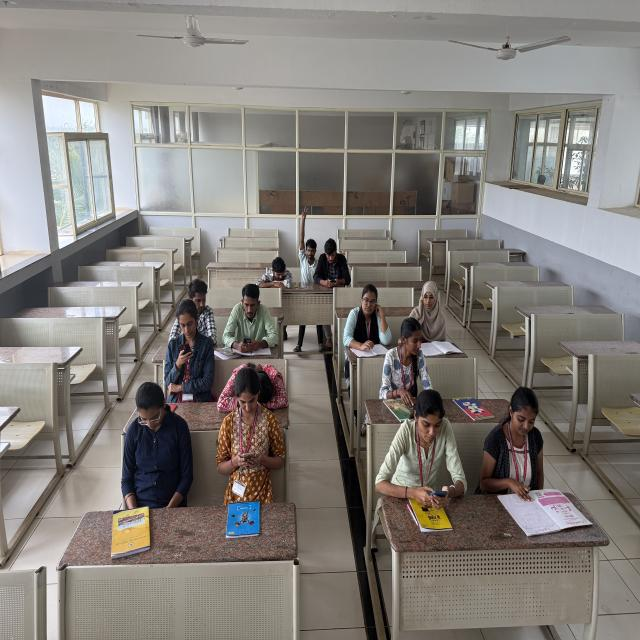Hand Rising: (298, 200, 320, 280)
Reading: (406, 276, 451, 352)
Sleeping: (217, 357, 293, 417), (254, 256, 299, 292)
Using Phone: (372, 383, 473, 518), (212, 365, 288, 491), (120, 382, 189, 506), (160, 296, 216, 404), (221, 281, 282, 349), (313, 235, 347, 288)
Writing: (482, 382, 550, 506), (340, 280, 391, 354)
